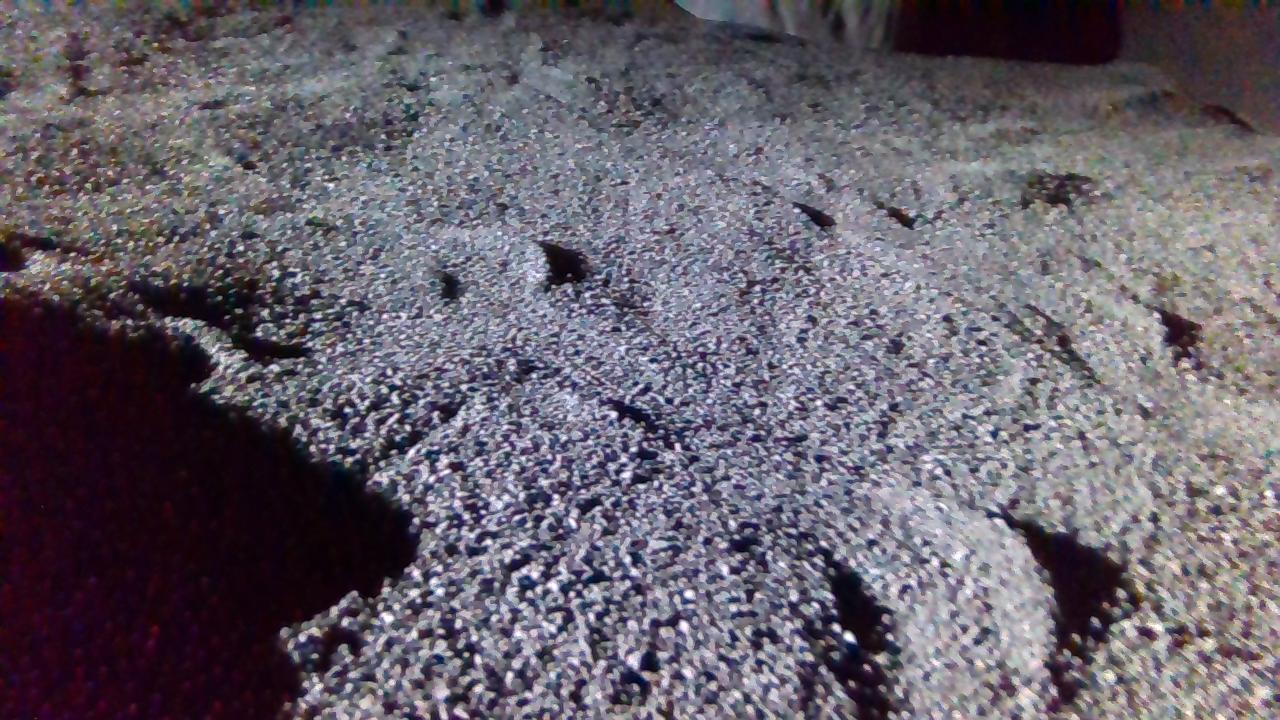rock: (677, 0, 892, 47)
